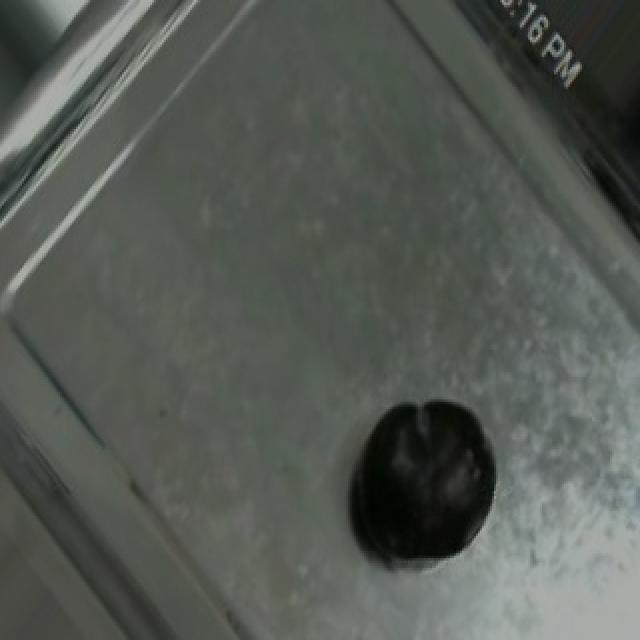Fruit: (344, 380, 510, 576)
